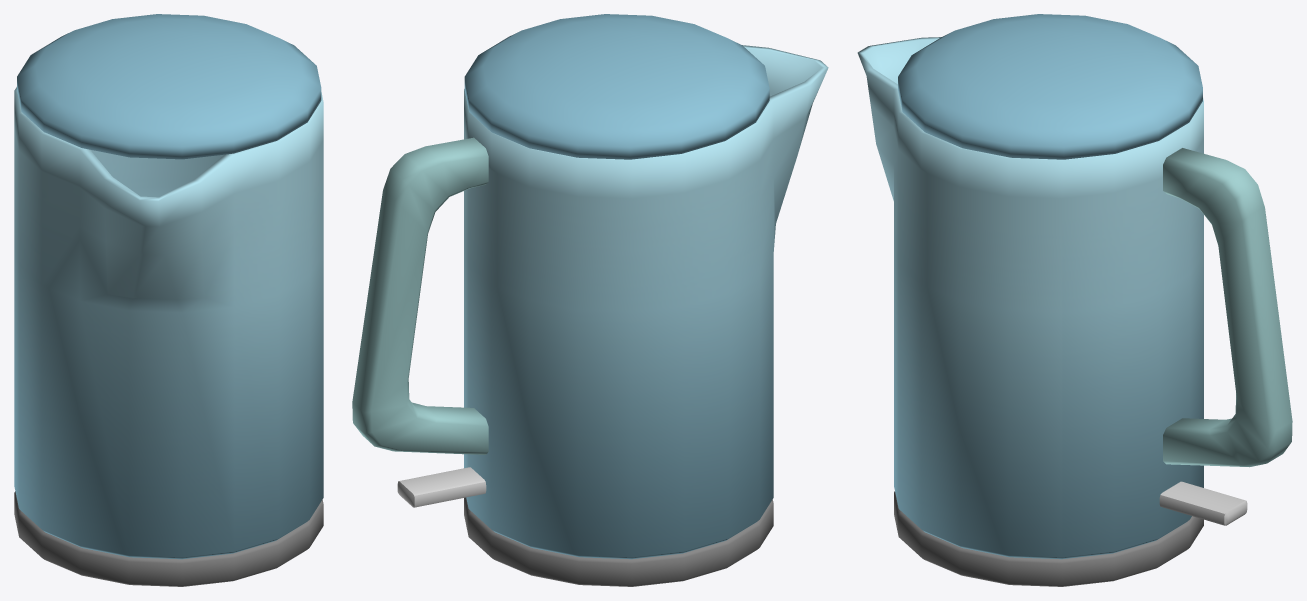
File: Kitchen_Kettle.FBX
3 renders of one model, left to right at view 1: azimuth 30°, elevation 25°; view 2: azimuth 150°, elevation 25°; view 3: azimuth 270°, elevation 25°, orthographic.
Parts seen in each view (by area): view 1: Kettle; view 2: Kettle; view 3: Kettle.
Part boxes in pixels (<box>): Kettle: <box>14,14,323,586</box>; Kettle: <box>352,14,828,586</box>; Kettle: <box>857,14,1292,586</box>.
Size of the model in its own units: 6.54 by 10.19 by 8.53.
